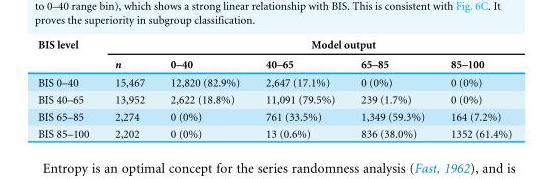table: (37, 36, 511, 139)
table column: (156, 36, 252, 139), (252, 36, 347, 139), (347, 36, 437, 139), (437, 36, 511, 139), (37, 36, 101, 139), (101, 36, 156, 139)
table column header: (37, 36, 511, 72)
table row: (37, 53, 511, 72), (37, 72, 511, 90), (37, 36, 511, 53), (37, 90, 511, 107), (37, 107, 511, 124), (37, 124, 511, 139)
table spanning cell: (156, 36, 511, 53), (37, 36, 101, 72), (101, 36, 156, 72)
